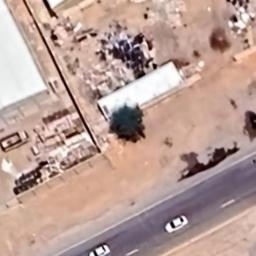sedan: (164, 214, 189, 234), (87, 244, 111, 256)
truck: (0, 130, 29, 152)
